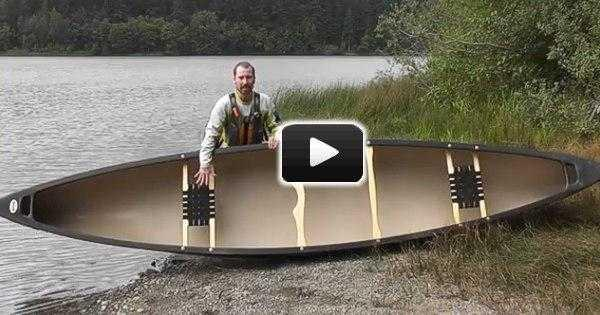kayak: (4, 119, 599, 261)
